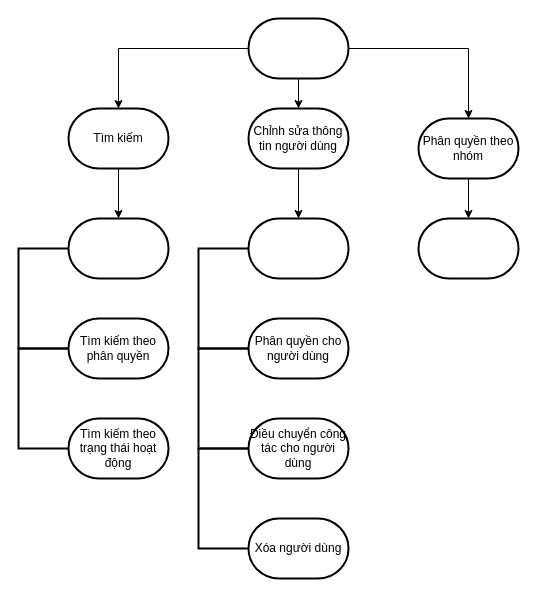
This 536x596 diagram has some shape labels left out. The centre of each missing label's shape, as x and y in pixels:
Super su: the point at 298,48
tìm kiếm theo đơn vị công tác: the point at 118,248
Xem thông tin người dùng: the point at 298,248
Điều chuyển công tác theo nhóm: the point at 468,248
